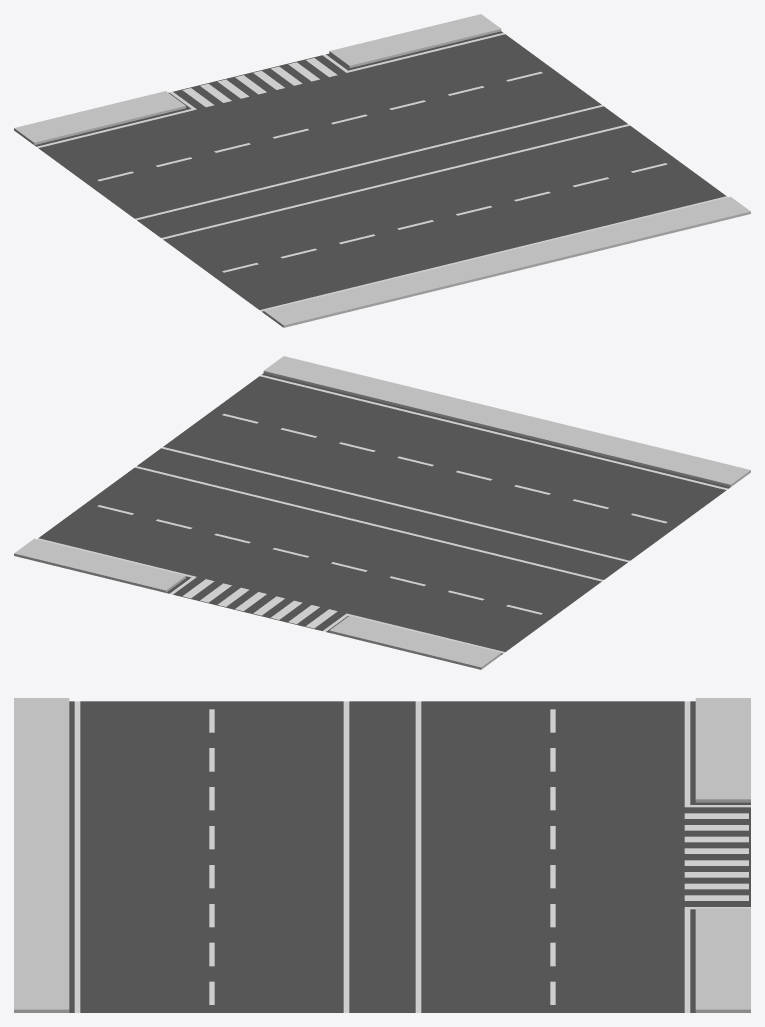
Rendered from SPW_Urban_Road 4way_2way Intersection_01.gltf.
3 renders of one model, top to bottom at view 1: azimuth 30°, elevation 25°; view 2: azimuth 150°, elevation 25°; view 3: azimuth 270°, elevation 25°, orthographic. The views are drawn at different scales.
Parts seen in each view (by area): view 1: SPW_Urban_Road_4way_2way_Intersection_01; view 2: SPW_Urban_Road_4way_2way_Intersection_01; view 3: SPW_Urban_Road_4way_2way_Intersection_01.
Part boxes in pixels (x1,y1,x2,y2): SPW_Urban_Road_4way_2way_Intersection_01: (14,14,750,327); SPW_Urban_Road_4way_2way_Intersection_01: (14,356,750,669); SPW_Urban_Road_4way_2way_Intersection_01: (14,698,750,1012).
Bounding box in the file's own units: 1575 × 7.87 × 1575.
Materials: 1 (1 with a texture image).
